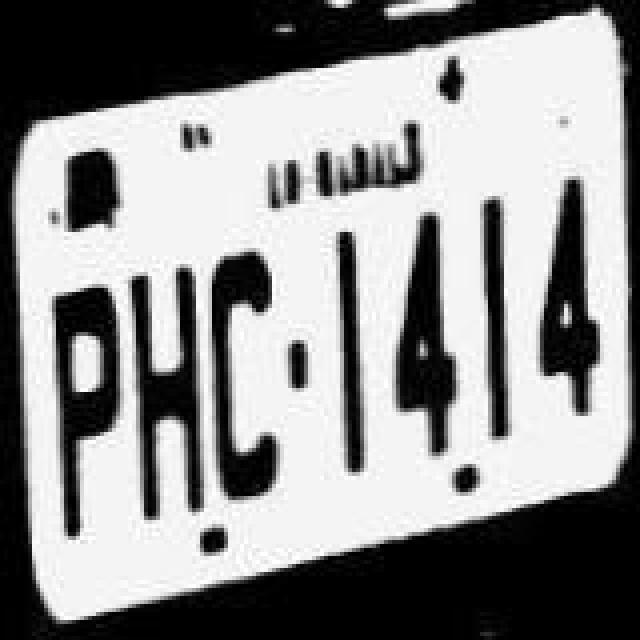1: (312, 224, 376, 504), (462, 184, 522, 472)
4: (522, 168, 606, 448), (378, 218, 462, 466)
C: (208, 236, 296, 520)
H: (130, 252, 218, 528)
P: (42, 272, 130, 552)
